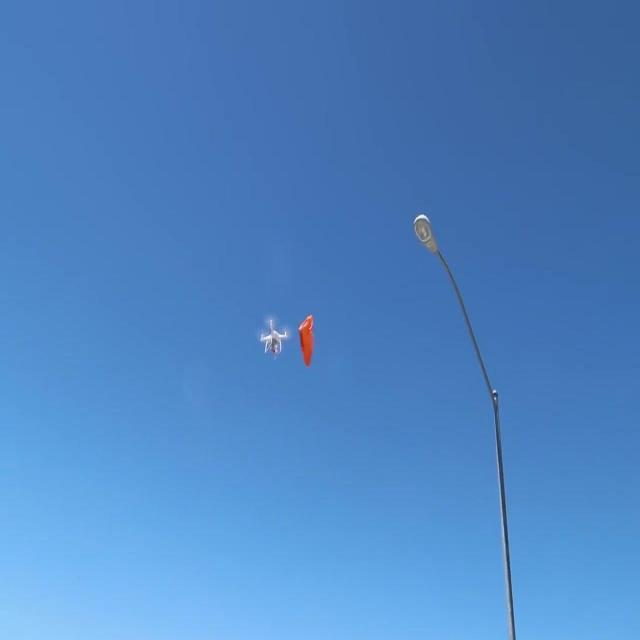UAV: (260, 319, 288, 361)
